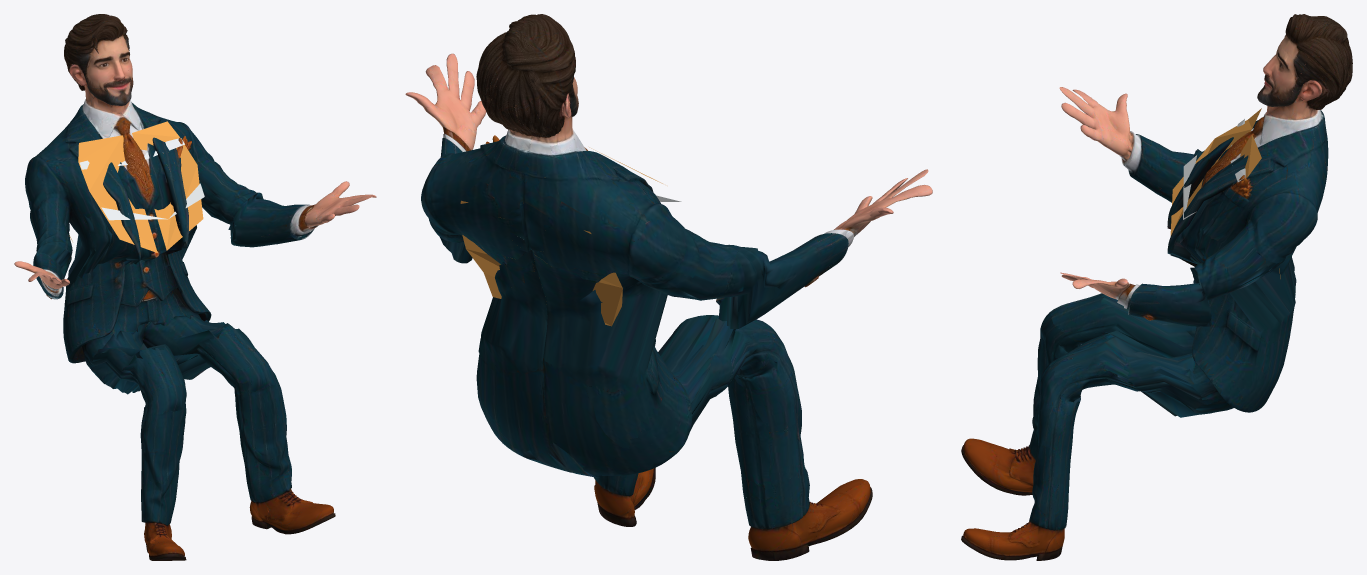
File: gerente-sentado.glb
3 views of the same model, side by side, from view 1: azimuth 30°, elevation 25°; view 2: azimuth 150°, elevation 25°; view 3: azimuth 270°, elevation 25° (orthographic). The views are drawn at different scales.
Parts seen in each view (by area): view 1: businessman; view 2: businessman; view 3: businessman.
Boxes of the visible parts, x1,y1,x2,y2 form: businessman: [14, 14, 376, 560]; businessman: [405, 14, 932, 560]; businessman: [961, 14, 1352, 560].
Size of the model in its own units: 1.06 by 1.28 by 0.889.
Materials: 3 (1 with a texture image).
